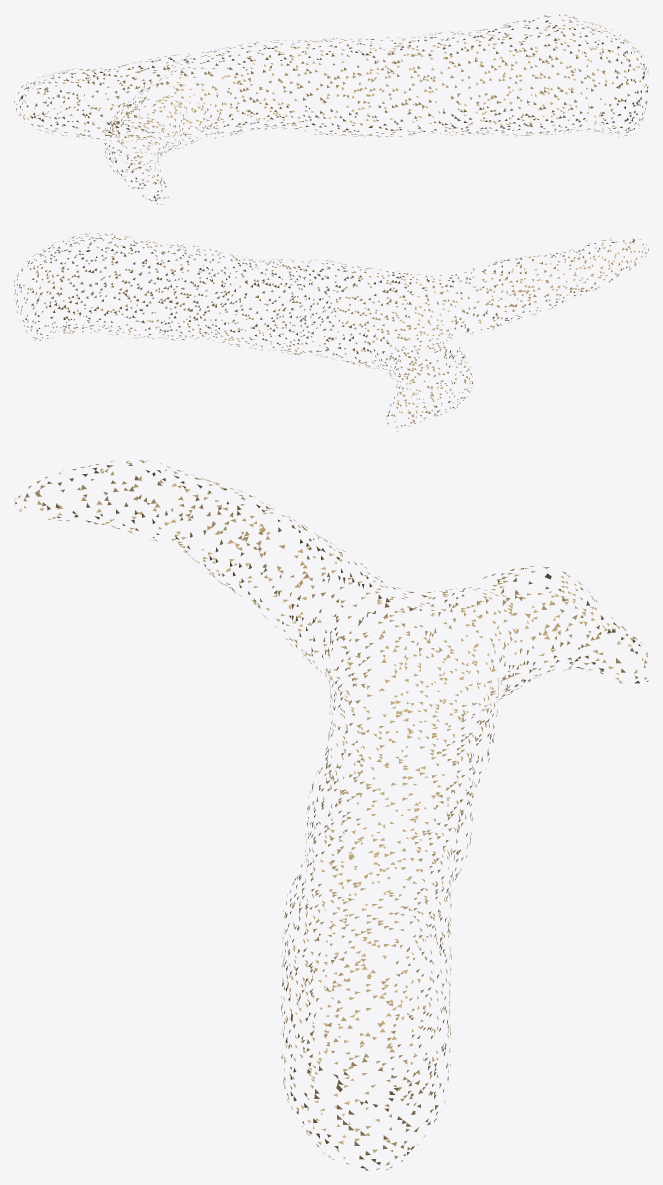
File: morph_007.glb
3 renders of one model, top to bottom at view 1: azimuth 30°, elevation 25°; view 2: azimuth 150°, elevation 25°; view 3: azimuth 270°, elevation 25°, orthographic. The views are drawn at different scales.
Bounding box in the file's own units: 134 × 40.56 × 80.28.
